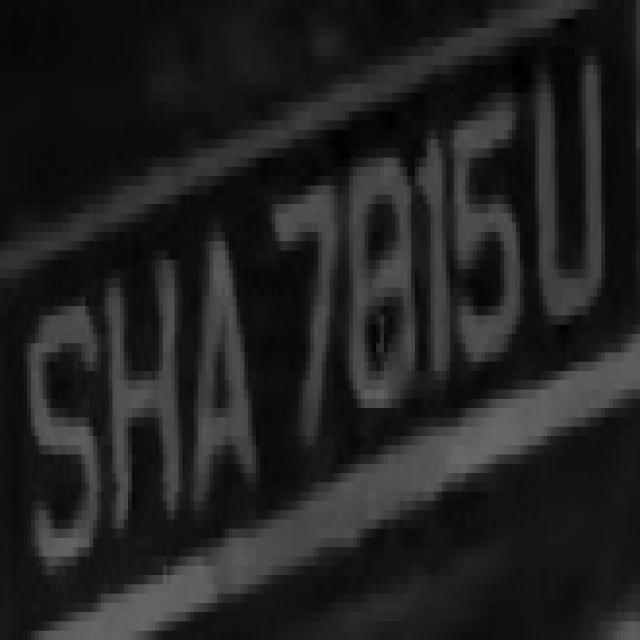1: (423, 111, 454, 473)
5: (438, 84, 524, 408)
7: (260, 158, 341, 473)
8: (334, 139, 426, 436)
A: (159, 186, 264, 547)
H: (97, 232, 182, 566)
S: (11, 278, 104, 594)
U: (516, 56, 609, 334)
